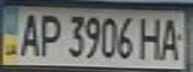0: (100, 13, 121, 60)
3: (63, 11, 84, 58)
6: (115, 14, 139, 61)
9: (81, 12, 103, 60)
A: (157, 15, 187, 61), (15, 10, 42, 57)
H: (136, 14, 166, 61)
P: (36, 10, 63, 57)
